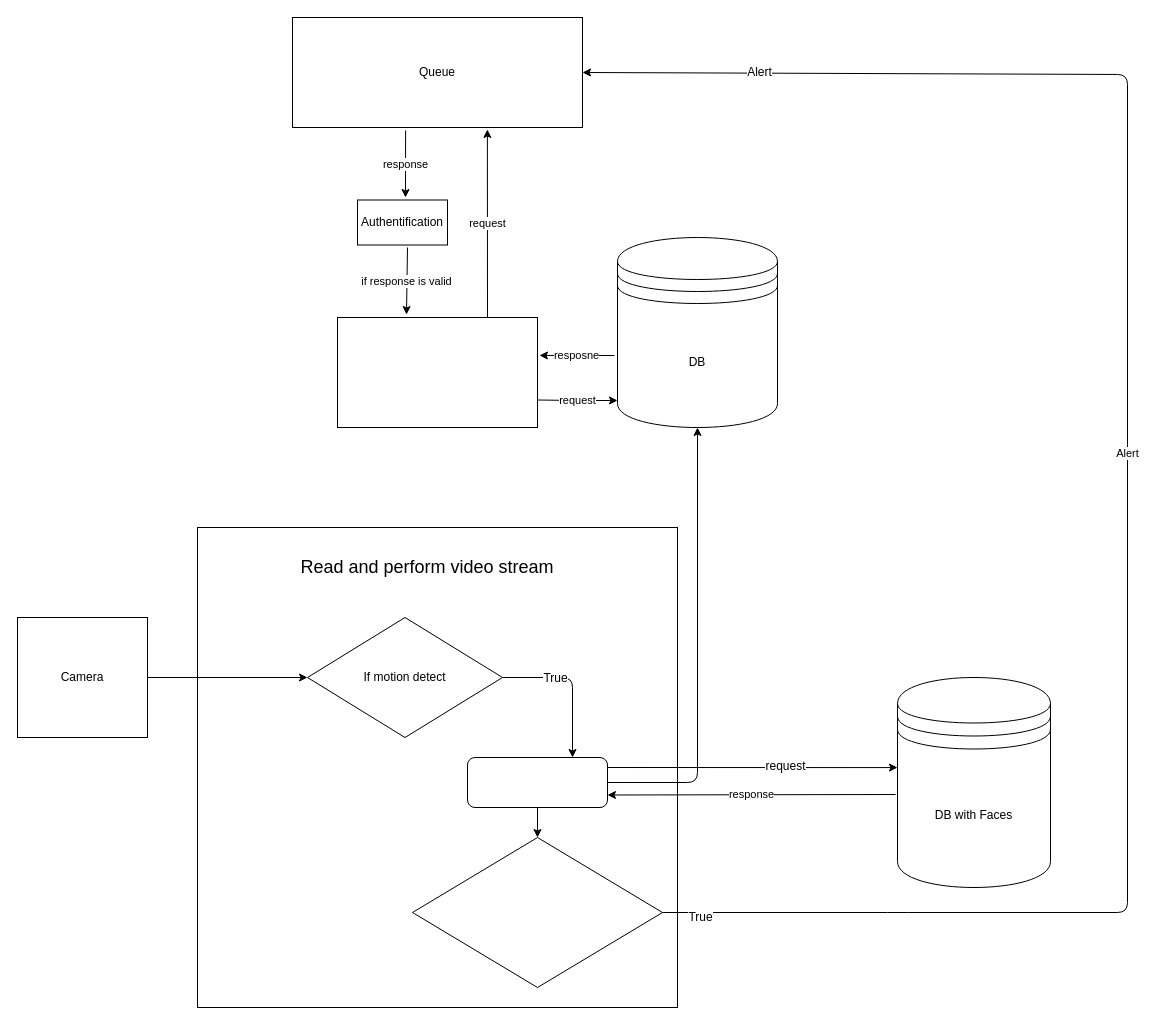
Some shapes in this 1156 by 1025 pixel diagram are drawn without their labels. Each missing label, with the box of its shape:
API: (336, 316, 538, 428)
Face Recognition: (466, 756, 608, 808)
Find face of unknown person and no signed person is at home: (412, 836, 662, 988)
